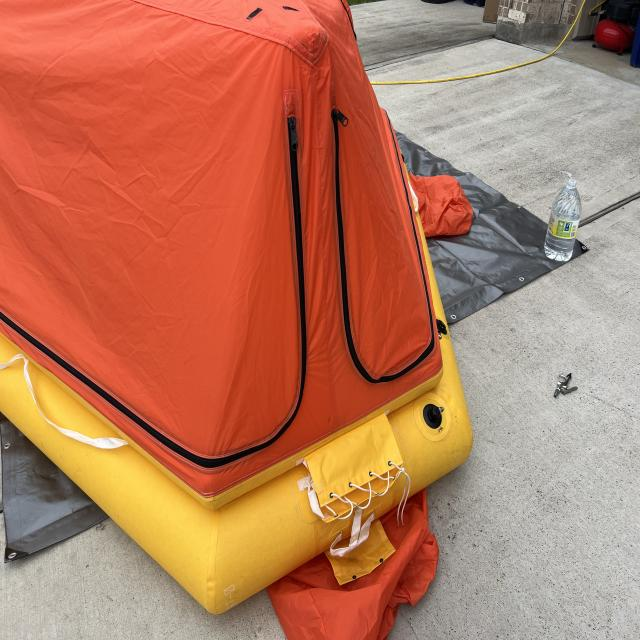Multi-person_life_raft: (0, 1, 474, 639)
